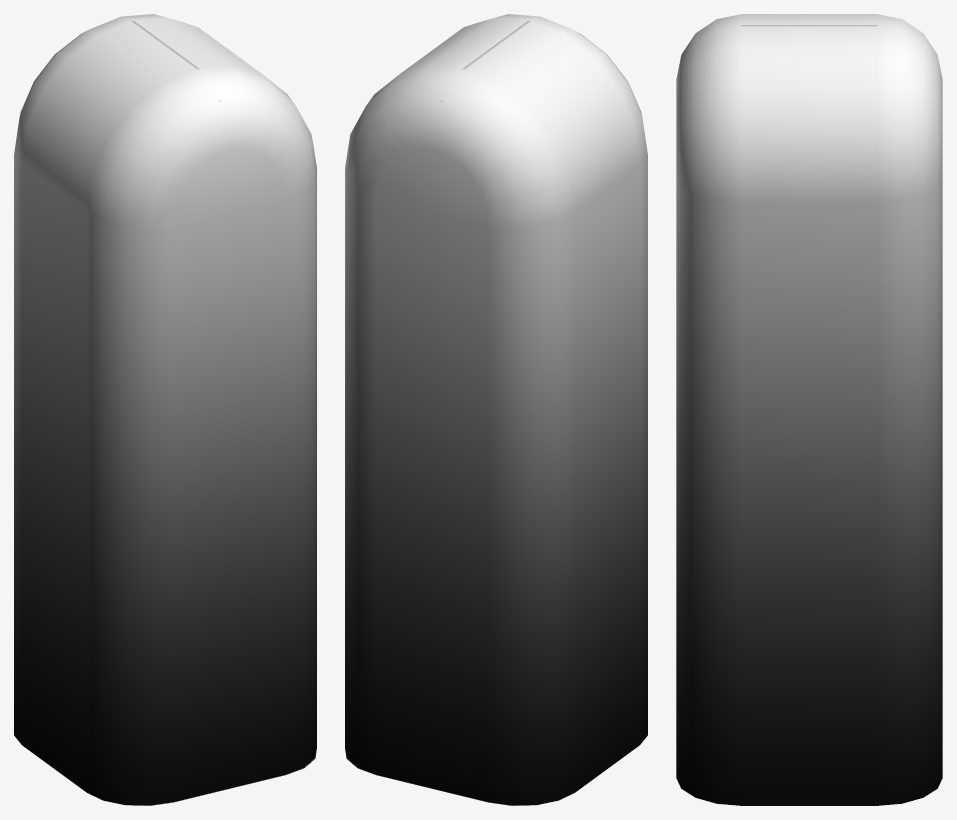
The model's file is BG_curvetop.fbx.
The picture shows the model from 3 angles, left to right: view 1: azimuth 30°, elevation 25°; view 2: azimuth 150°, elevation 25°; view 3: azimuth 270°, elevation 25°; orthographic projection. The views are drawn at different scales.
Parts seen in each view (by area): view 1: BG_curvetop; view 2: BG_curvetop; view 3: BG_curvetop.
Boxes of the visible parts, x1,y1,x2,y2 form: BG_curvetop: (14, 14, 316, 805); BG_curvetop: (345, 14, 647, 805); BG_curvetop: (676, 14, 942, 805).
Size of the model in its own units: 512 by 1536 by 512.
